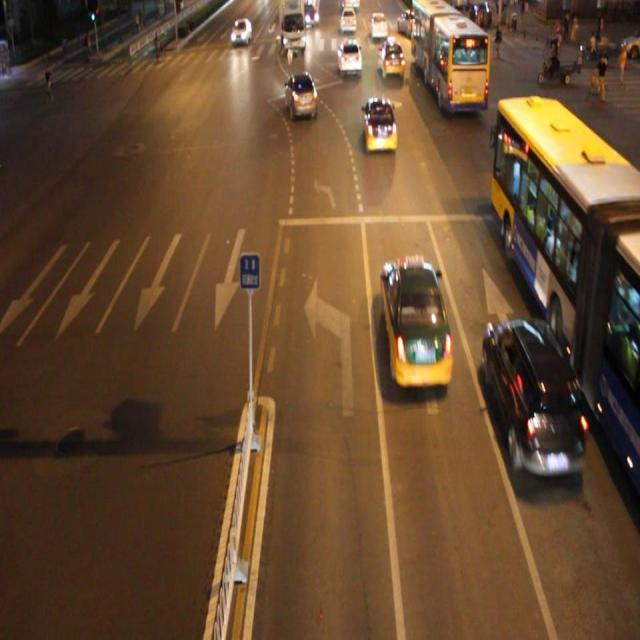car: (482, 316, 583, 478), (380, 255, 451, 387), (363, 94, 398, 154), (285, 71, 318, 119)
van: (492, 96, 640, 490), (412, 2, 487, 112)
